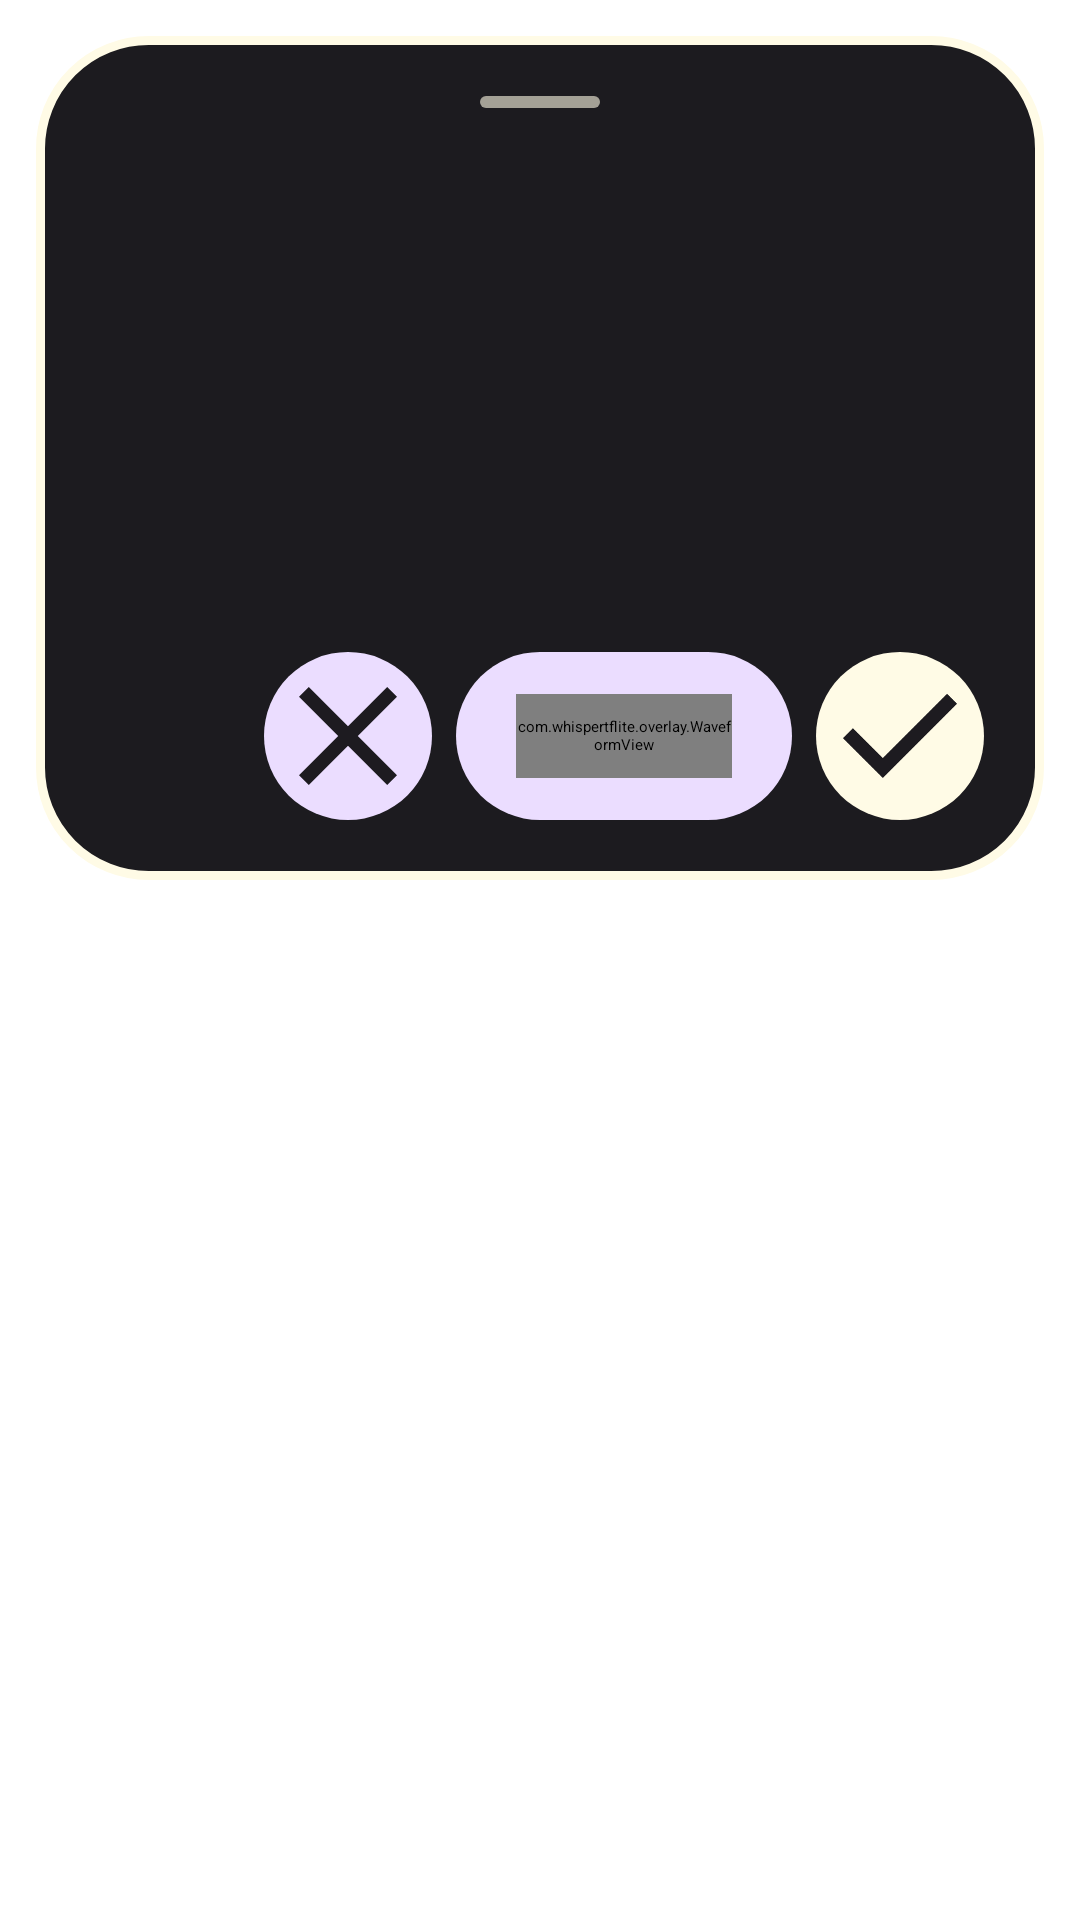

Icons on this 1080w x 1920h Android screen, each with the point to tap as (x,y):
Close and discard: (348,736)
